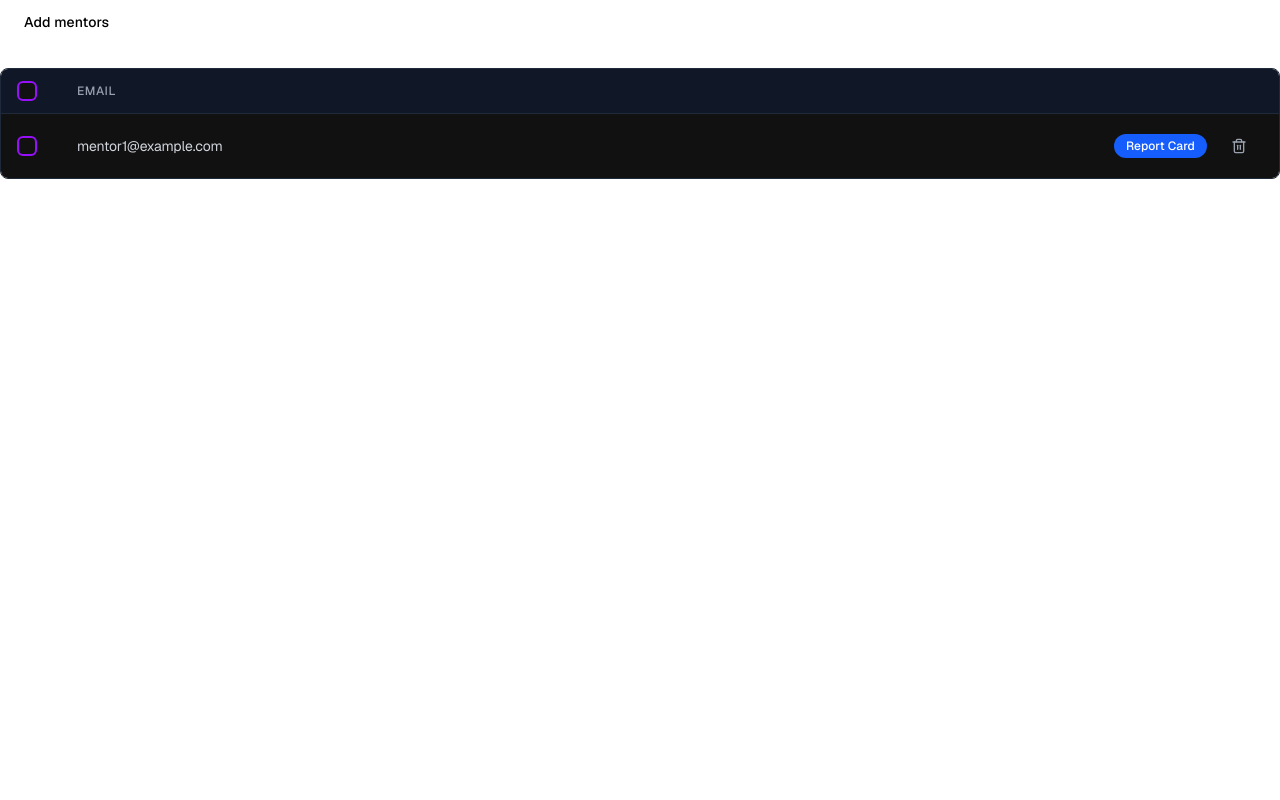
Test: CohortMemberManagement Component › Role-specific Behavior › shows correct deletion confirmation for mentor
Click the 3rd button. click: (1239, 146)
box: [1223,130,1255,162]
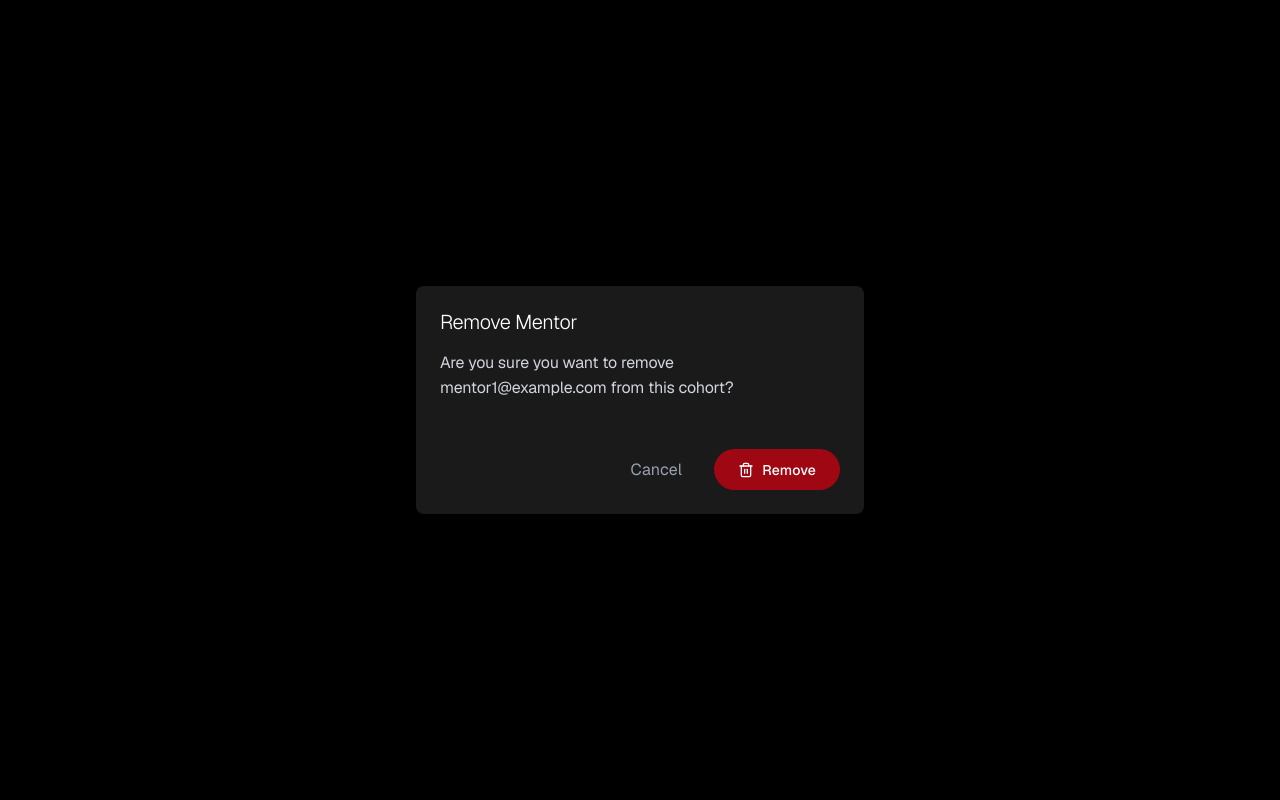
Expected: the heading "Remove Mentor" is shown, [440,309,577,335]
